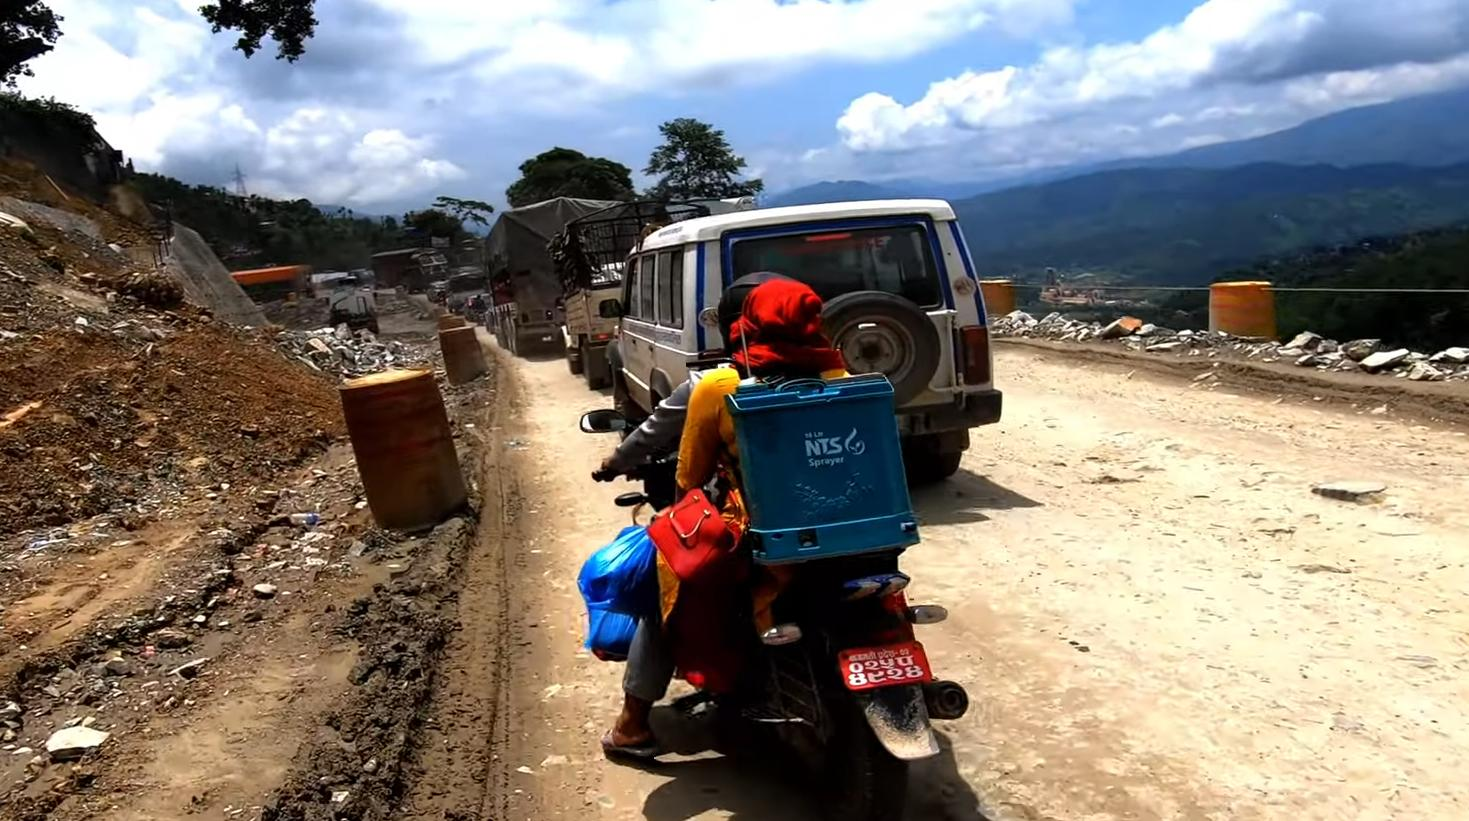ambulance: (581, 192, 1014, 503)
transport_vehicle: (547, 196, 684, 374)
truck: (476, 181, 596, 367), (368, 240, 453, 298)
